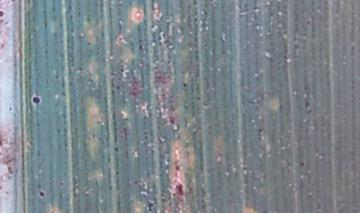tarspot: (29, 92, 42, 106), (36, 188, 47, 199), (145, 200, 156, 211), (111, 143, 122, 153), (5, 102, 14, 114), (1, 7, 9, 20), (134, 43, 145, 52), (302, 98, 311, 109), (112, 168, 122, 177), (57, 179, 66, 189), (297, 158, 305, 169), (280, 52, 288, 63), (117, 66, 128, 74), (113, 83, 122, 92), (191, 1, 201, 9), (105, 155, 114, 163), (181, 80, 188, 89)
